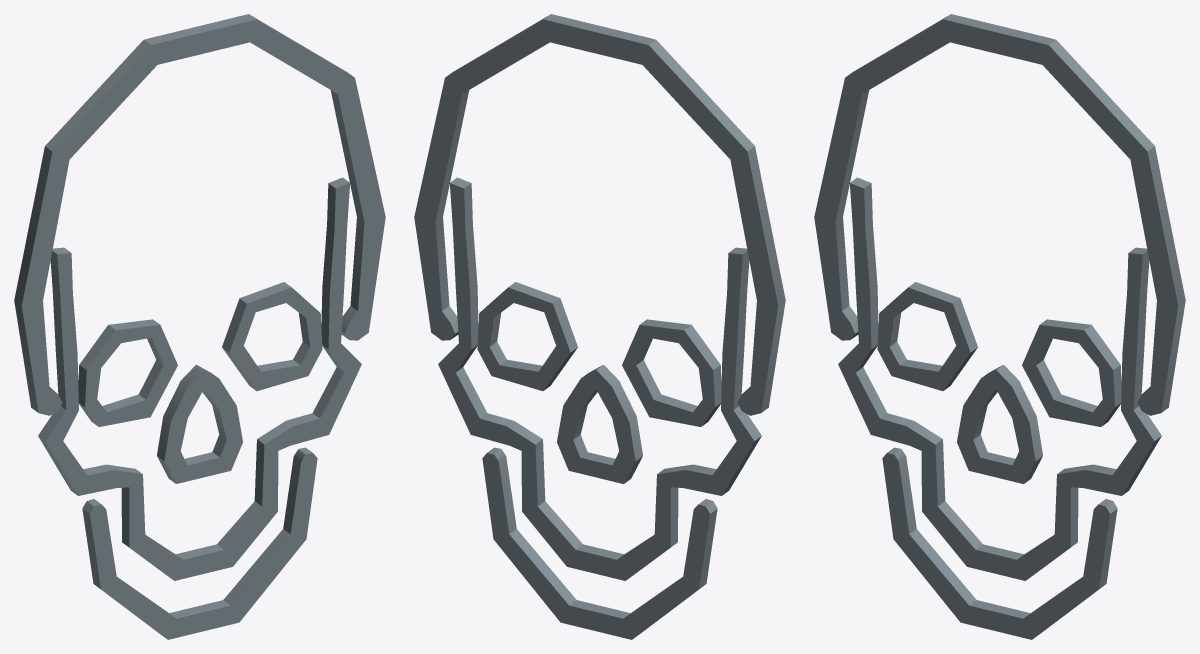
The model's file is city_SM_Sign_Neon_04.gltf.
The picture shows the model from 3 angles, left to right: view 1: azimuth 30°, elevation 25°; view 2: azimuth 150°, elevation 25°; view 3: azimuth 330°, elevation 25°; orthographic projection.
Visible parts, largest first — view 1: SM_Sign_Neon_04; view 2: SM_Sign_Neon_04; view 3: SM_Sign_Neon_04.
Boxes of the visible parts, left/top/right/bottom form: SM_Sign_Neon_04: left=14, top=14, right=385, bottom=639; SM_Sign_Neon_04: left=414, top=14, right=785, bottom=639; SM_Sign_Neon_04: left=814, top=14, right=1185, bottom=639.
Bounding box in the file's own units: 0.8391 × 1.32 × 0.03.
1 material, 1 textured.
